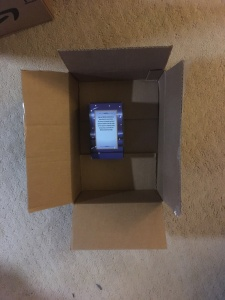innerbox: (67, 72, 163, 201)
outerbox: (25, 49, 182, 248)
product: (89, 102, 123, 158)
